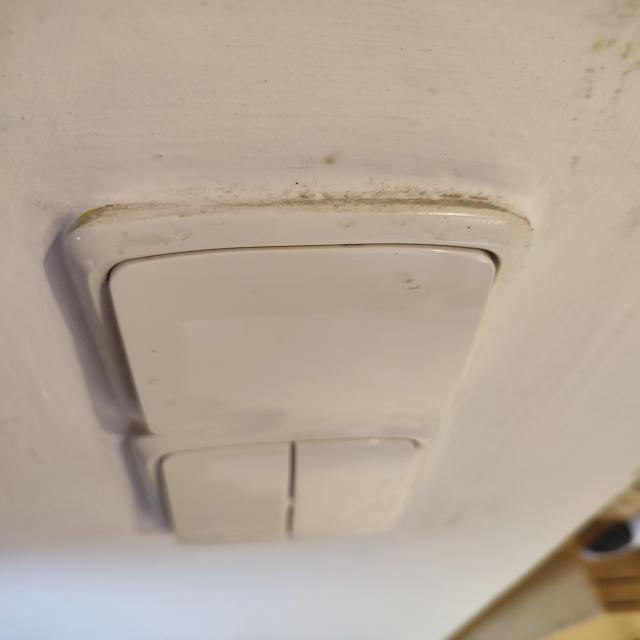house switch: (59, 210, 515, 430)
house switch double: (131, 422, 445, 545)
